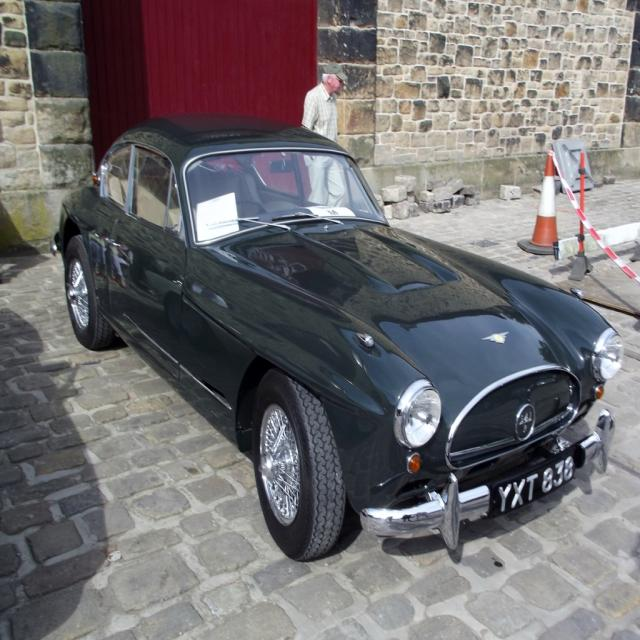car: (49, 111, 624, 562)
